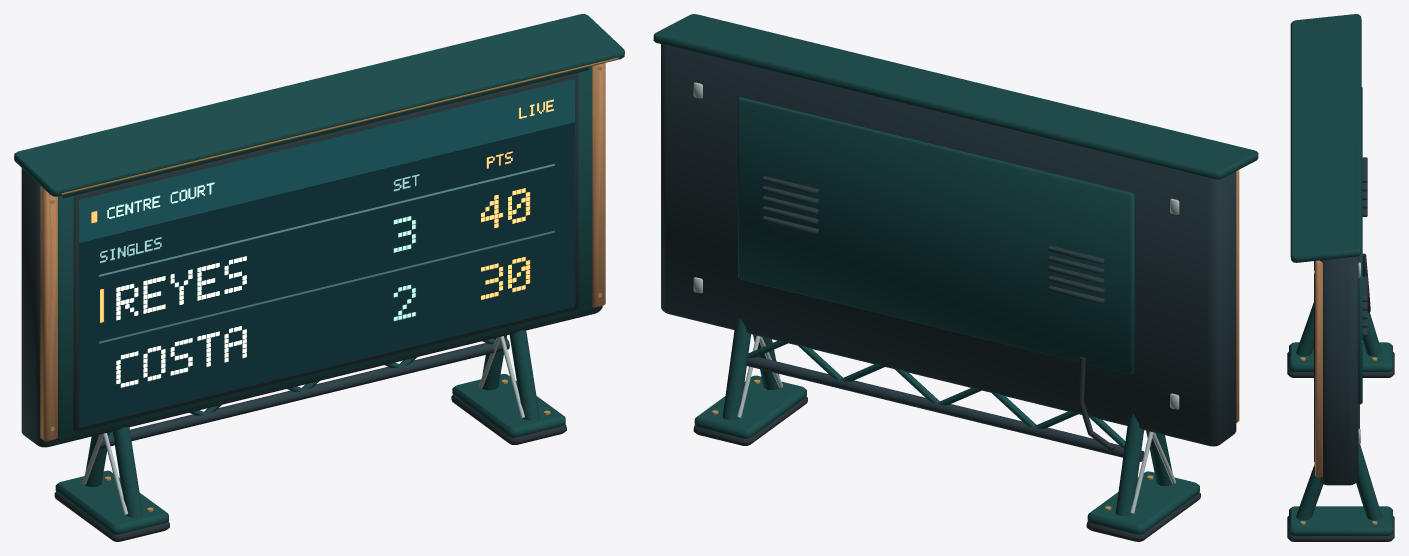
File: scoreboard_led.glb
The picture shows the model from 3 angles, left to right: view 1: azimuth 30°, elevation 25°; view 2: azimuth 150°, elevation 25°; view 3: azimuth 270°, elevation 25°; orthographic projection. The views are drawn at different scales.
Visible parts, largest first — view 1: LED_Screen, scoreboard_led_Deep_Jade, scoreboard_led_Graphite, scoreboard_led_Rubber, scoreboard_led_Cedar, scoreboard_led_Brass, scoreboard_led_Silver; view 2: scoreboard_led_Deep_Jade, scoreboard_led_Graphite, scoreboard_led_Rubber, scoreboard_led_Silver, scoreboard_led_Cedar; view 3: scoreboard_led_Deep_Jade, scoreboard_led_Graphite, scoreboard_led_Cedar, scoreboard_led_Rubber.
Part boxes in pixels (left/top/right/bottom): LED_Screen: left=79, top=79, right=574, bottom=427; scoreboard_led_Deep_Jade: left=14, top=14, right=624, bottom=534; scoreboard_led_Graphite: left=21, top=168, right=602, bottom=448; scoreboard_led_Rubber: left=54, top=73, right=578, bottom=541; scoreboard_led_Cedar: left=40, top=63, right=605, bottom=441; scoreboard_led_Brass: left=50, top=57, right=618, bottom=511; scoreboard_led_Silver: left=82, top=336, right=524, bottom=514; scoreboard_led_Deep_Jade: left=653, top=14, right=1258, bottom=534; scoreboard_led_Graphite: left=661, top=44, right=1236, bottom=461; scoreboard_led_Rubber: left=693, top=357, right=1200, bottom=541; scoreboard_led_Silver: left=693, top=82, right=1179, bottom=513; scoreboard_led_Cedar: left=1236, top=170, right=1239, bottom=422; scoreboard_led_Deep_Jade: left=1289, top=14, right=1392, bottom=535; scoreboard_led_Graphite: left=1319, top=157, right=1367, bottom=485; scoreboard_led_Cedar: left=1315, top=260, right=1322, bottom=477; scoreboard_led_Rubber: left=1287, top=253, right=1394, bottom=541.
Size of the model in its own units: 3.82 by 2.38 by 0.73.
Materials: 9 (2 with a texture image).
